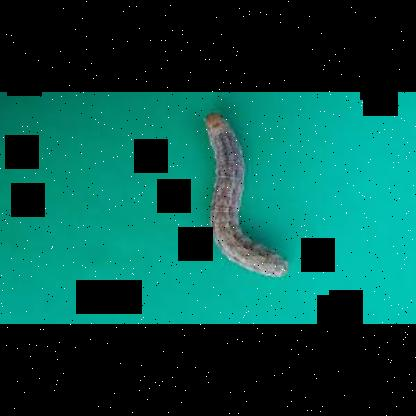oruga: (191, 106, 289, 288)
